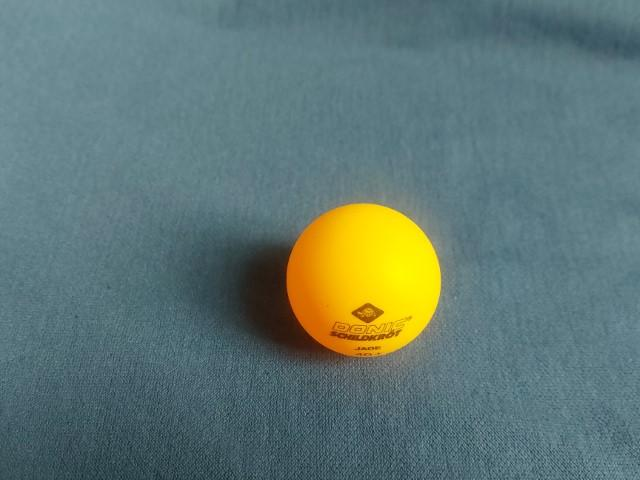oball: (277, 197, 446, 366)
